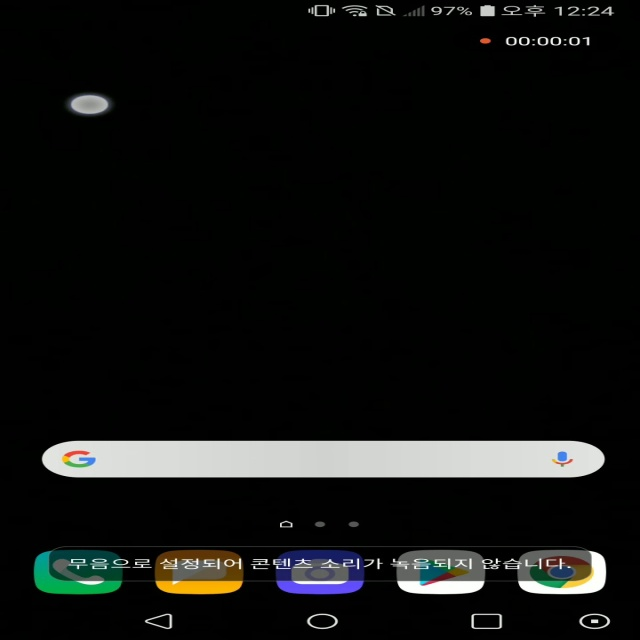Cursor: (68, 95, 112, 117)
